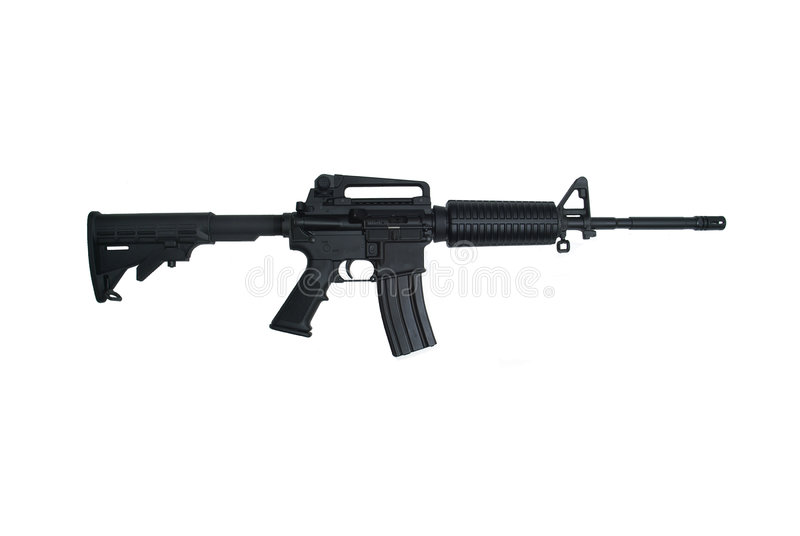pistol: (80, 164, 727, 364)
